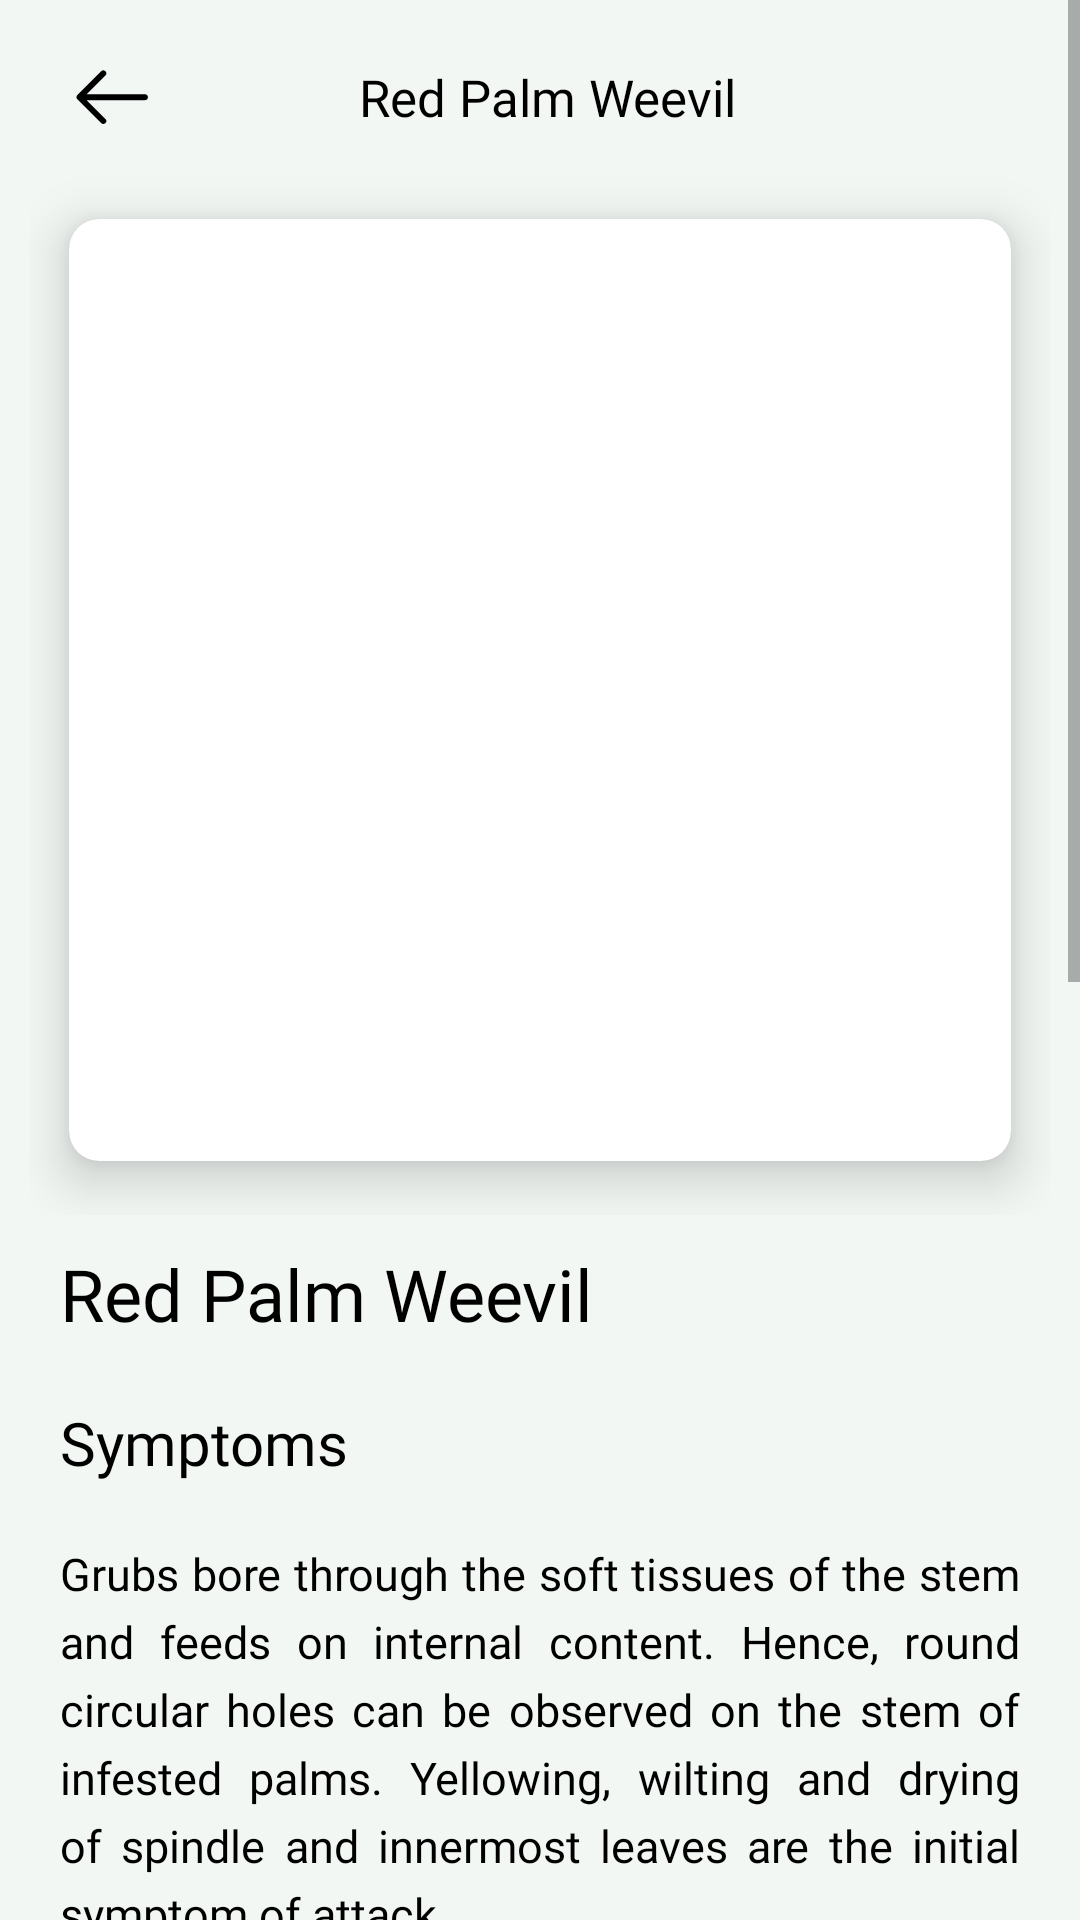

Locate icon controls on the screen. Image size 1080*1920, boxes as region(x1, y1, x2, y2).
back: region(76, 70, 148, 124)
